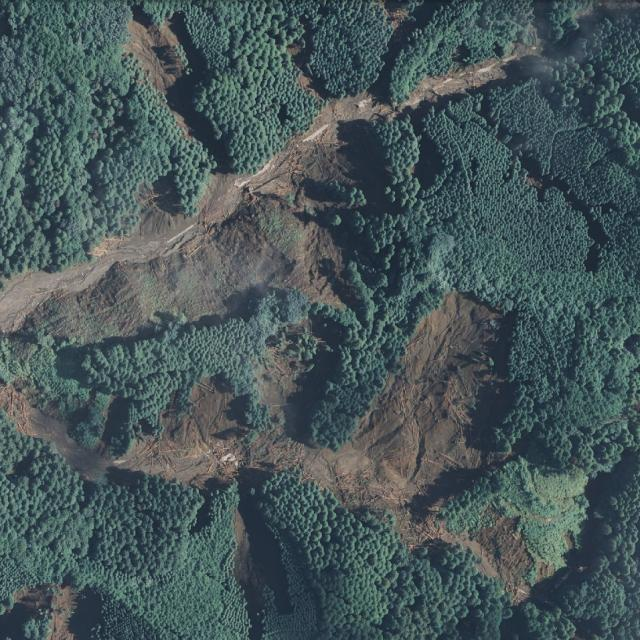landslide: (0, 0, 640, 345), (0, 291, 640, 604)
